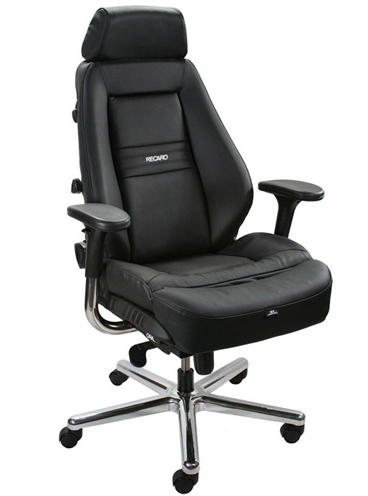chairs: (51, 7, 334, 496)
